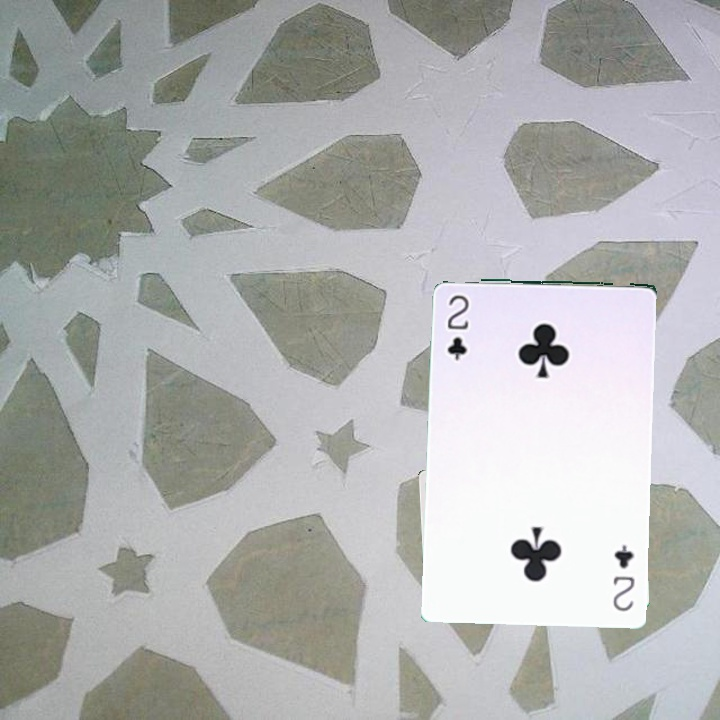2c: (609, 540, 637, 614), (443, 291, 471, 363)
